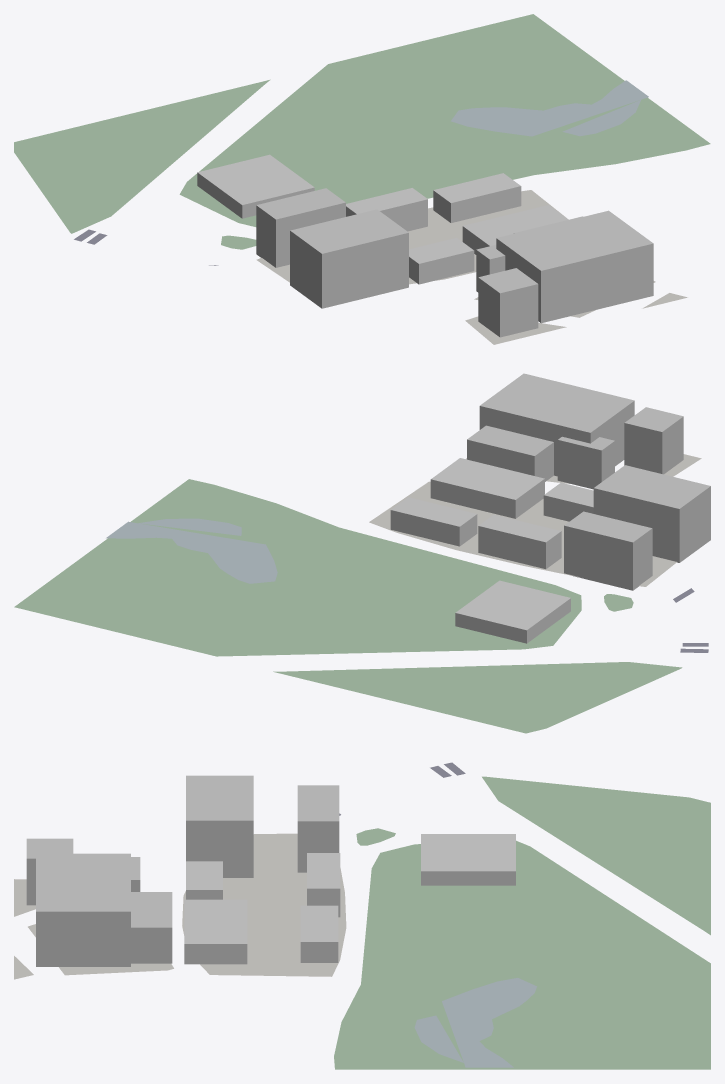
The model's file is 128_78_mid.glb.
The picture shows the model from 3 angles, top to bottom: view 1: azimuth 30°, elevation 25°; view 2: azimuth 150°, elevation 25°; view 3: azimuth 270°, elevation 25°; orthographic projection. The views are drawn at different scales.
Size of the model in its own units: 511 by 46.62 by 500.
